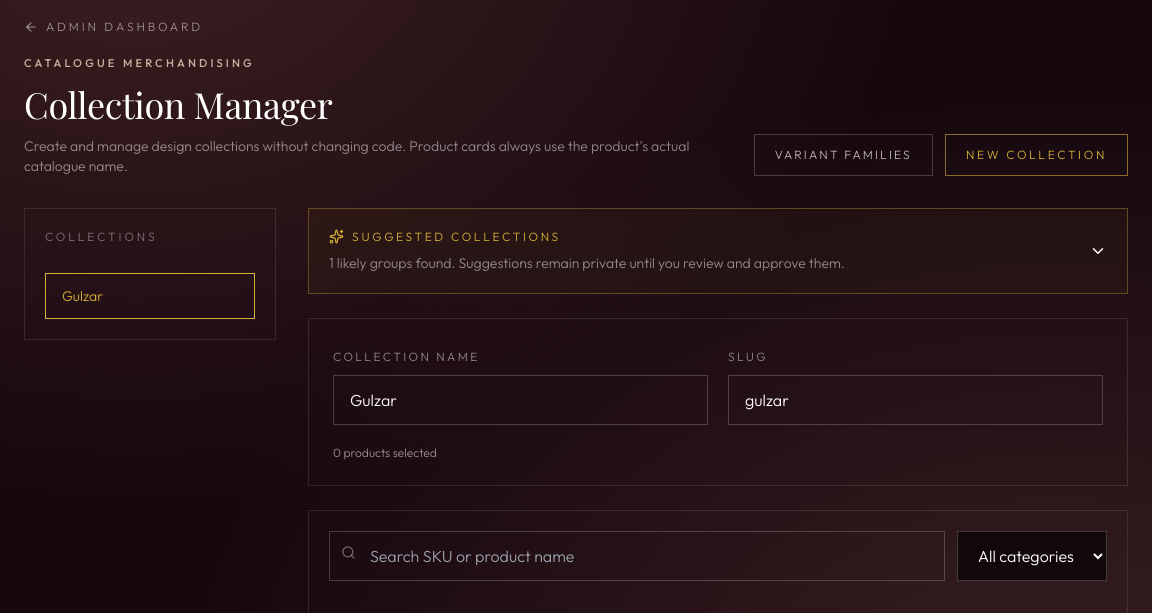
returns accidentally registered collections to private suggestions
Expected: the button "Gulzar" is shown, [45,273,255,319]
Click the button "Suggested collections" at point(718, 251), box [309,209,1127,293]
(page scrolled)
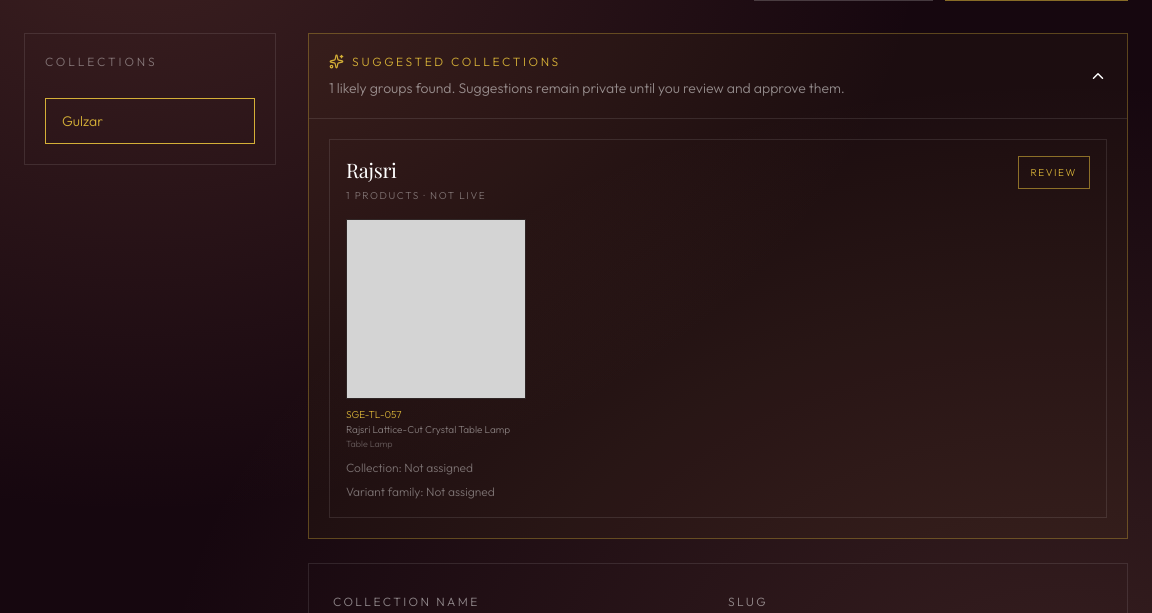
Expected: the text "SGE-TL-057" is shown, [346,408,401,421]
Expected: the element with test id "collection-suggestion-rajsri" shows "1 products · Not live", [329,139,1107,518]
